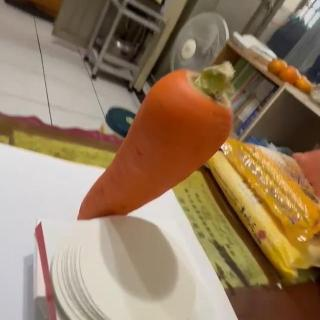carrot: (78, 62, 236, 221)
